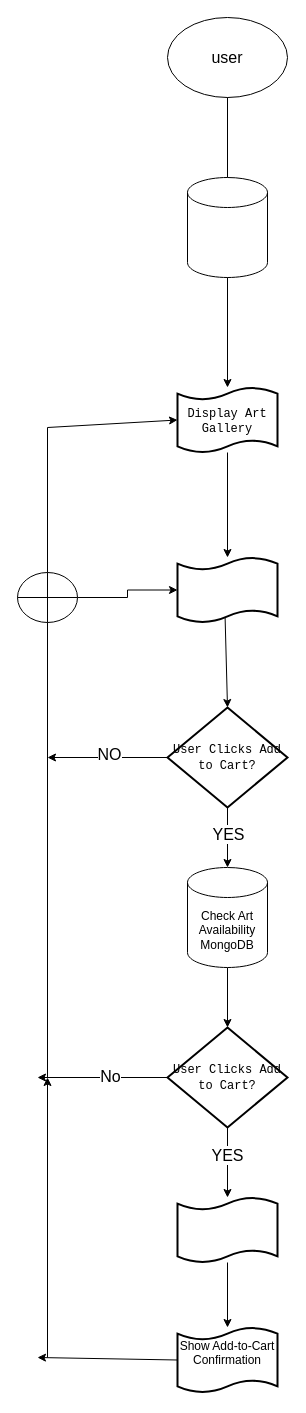
This 306x1413 diagram has some shape labels left out. The shapes that lost their labels are listed below. From the top down, each one's box as (x1, y1, x2, y2) in pixels, then its label:
(186, 176, 268, 278): Fetch Art Details (MongoDB)
(176, 556, 278, 623): user clicks an art info regarding art is also displayed
(176, 1196, 278, 1263): Add Art Item to Cart
